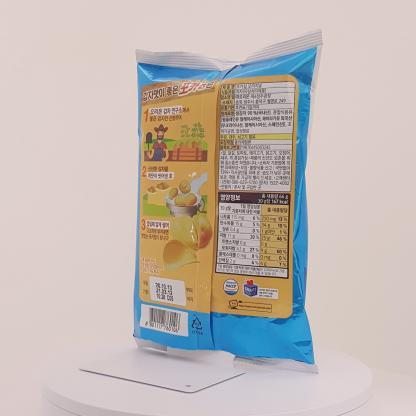Plastic Packaging: (121, 21, 348, 386)
